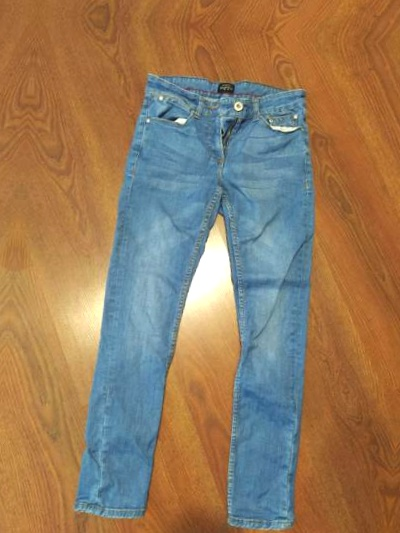Pants: (51, 56, 366, 533), (102, 0, 400, 3)
